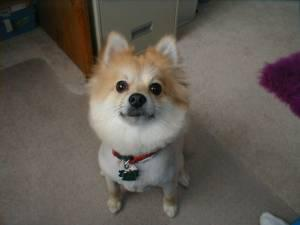dog-pomeranian: (99, 29, 178, 125)
